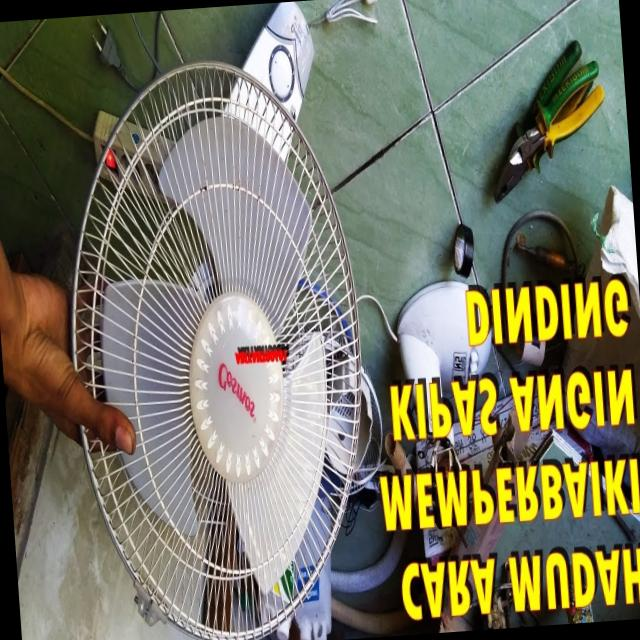fan: (40, 0, 390, 640)
